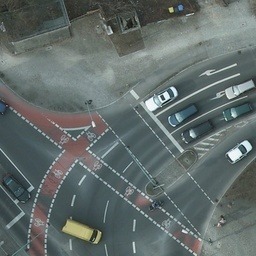car: (0, 173, 34, 204), (181, 118, 215, 145), (147, 83, 177, 111), (167, 105, 201, 128), (219, 102, 253, 123), (225, 138, 252, 164), (0, 92, 11, 116)
van: (62, 218, 104, 245)
